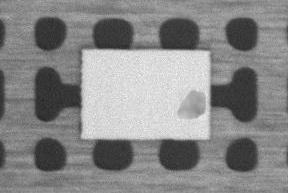DIE_INK: (174, 89, 206, 122)
